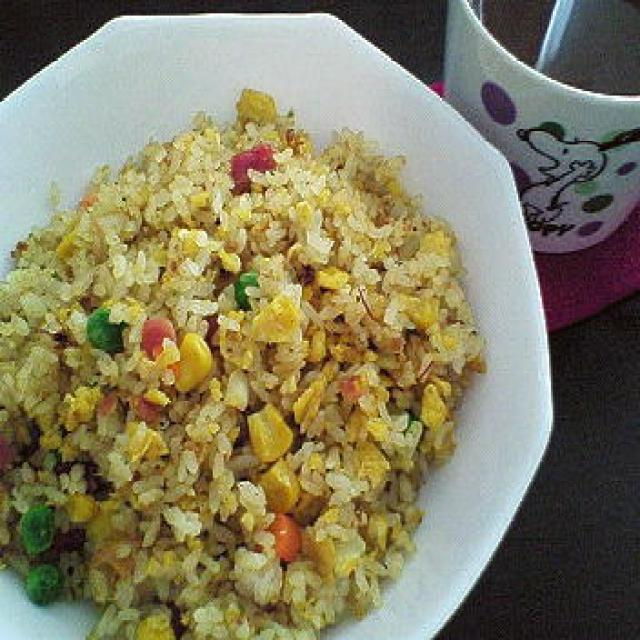米饭主食: (0, 11, 551, 640)
